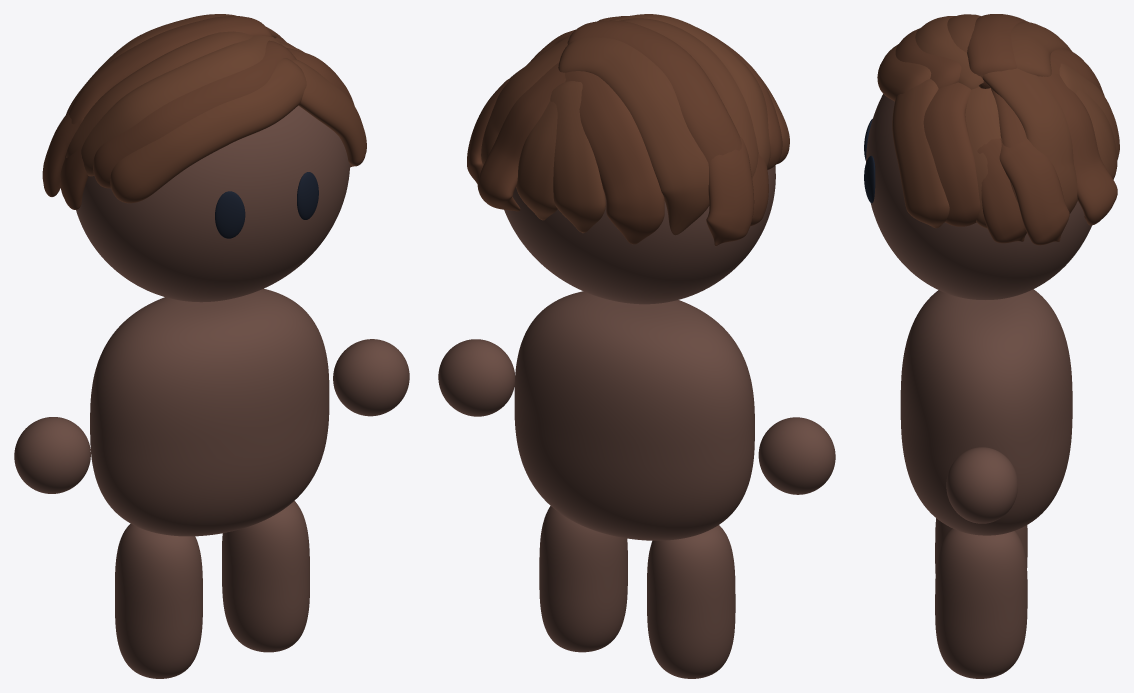
The model's file is Masculine-skin3.glb.
The picture shows the model from 3 angles, left to right: view 1: azimuth 30°, elevation 25°; view 2: azimuth 150°, elevation 25°; view 3: azimuth 270°, elevation 25°; orthographic projection. The views are drawn at different scales.
Visible parts, largest first — view 1: Skin / compact torso, Skin / soft oval head, Skin / leg -1, Skin / leg 1, Hair / Main sweep 0, Hair / Main sweep 2, Hair / Main sweep 1, Skin / hand 1, Skin / hand -1, Hair / Crown sweep, Hair / Main sweep 3, Hair / Short side 0 (+6 smaller); view 2: Skin / compact torso, Skin / soft oval head, Skin / leg -1, Hair / Back sweep 0, Skin / leg 1, Hair / Back sweep 1, Hair / Crown sweep, Hair / Back sweep 2, Skin / hand -1, Skin / hand 1, Hair / Back sweep 4, Hair / Temple -1 1 (+7 smaller); view 3: Skin / compact torso, Skin / soft oval head, Skin / leg 1, Hair / Short side 1, Hair / Short side 0, Hair / Back sweep 3, Hair / Temple 1 1, Skin / hand 1, Hair / Back sweep 4, Hair / Temple 1 0, Hair / Crown sweep, Hair / Short side 2 (+11 smaller).
Boxes of the visible parts, x1,y1,x2,y2 form: Skin / compact torso: (90,288,329,536); Skin / soft oval head: (76,105,349,302); Skin / leg -1: (115,523,202,678); Skin / leg 1: (222,501,309,652); Hair / Main sweep 0: (110,58,306,203); Hair / Main sweep 2: (81,35,281,176); Hair / Main sweep 1: (93,40,296,188); Skin / hand 1: (333,339,409,416); Skin / hand -1: (14,417,90,493); Hair / Crown sweep: (65,16,272,158); Hair / Main sweep 3: (66,31,252,157); Hair / Short side 0: (292,59,366,167); Skin / compact torso: (514,291,754,540); Skin / soft oval head: (504,165,775,304); Skin / leg -1: (647,525,735,678); Hair / Back sweep 0: (558,37,709,235); Skin / leg 1: (539,506,627,652); Hair / Back sweep 1: (565,71,664,244); Hair / Crown sweep: (567,20,741,163); Hair / Back sweep 2: (550,81,605,232); Skin / hand -1: (758,417,835,494); Skin / hand 1: (438,339,515,416); Hair / Back sweep 4: (477,62,565,211); Hair / Temple -1 1: (706,136,754,246); Skin / compact torso: (900,289,1072,535); Skin / soft oval head: (866,94,1091,299); Skin / leg 1: (935,528,1027,678); Hair / Short side 1: (923,82,980,226); Hair / Short side 0: (892,79,949,228); Hair / Back sweep 3: (982,68,1077,213); Hair / Temple 1 1: (999,138,1069,245); Skin / hand 1: (946,447,1017,523); Hair / Back sweep 4: (1038,73,1117,225); Hair / Temple 1 0: (977,138,1026,243); Hair / Crown sweep: (967,14,1027,88); Hair / Short side 2: (965,86,1000,228).
Size of the model in its own units: 1.49 by 2.32 by 0.8691.
